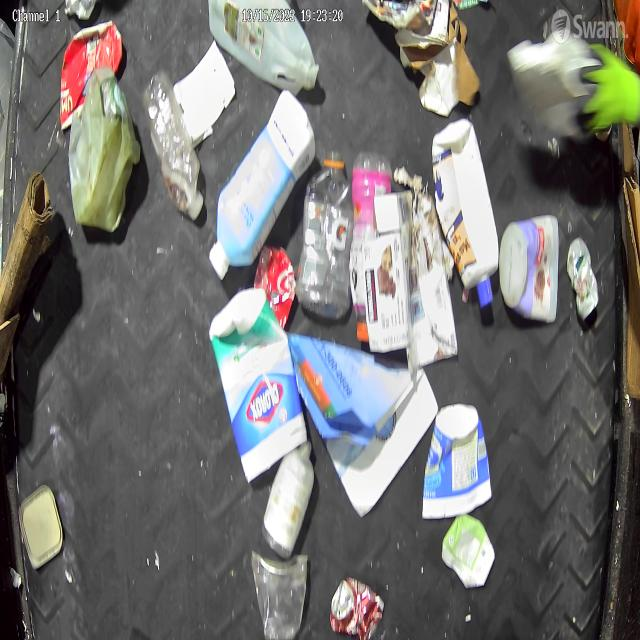can: (328, 573, 387, 640), (566, 234, 600, 324)
milk_jug: (206, 0, 321, 98)
plastic_bottle: (140, 70, 205, 226), (294, 148, 352, 322)
